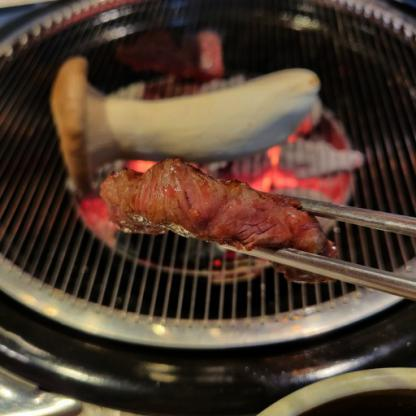Carne: (94, 154, 318, 246)
